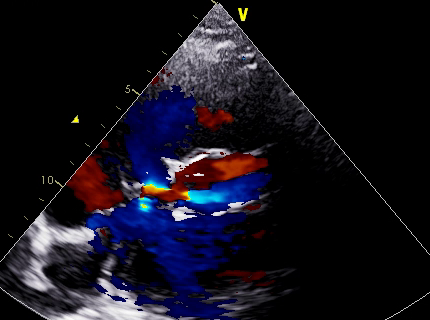TR: (105, 153, 181, 251)
